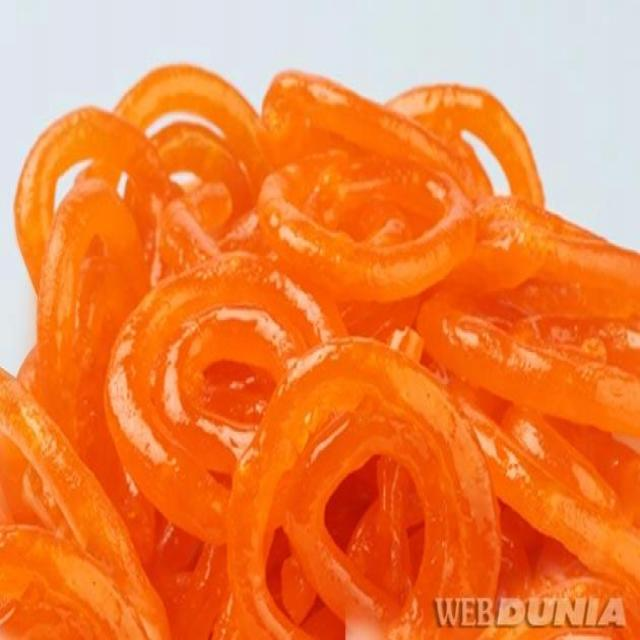jalebi: (3, 81, 640, 640)
